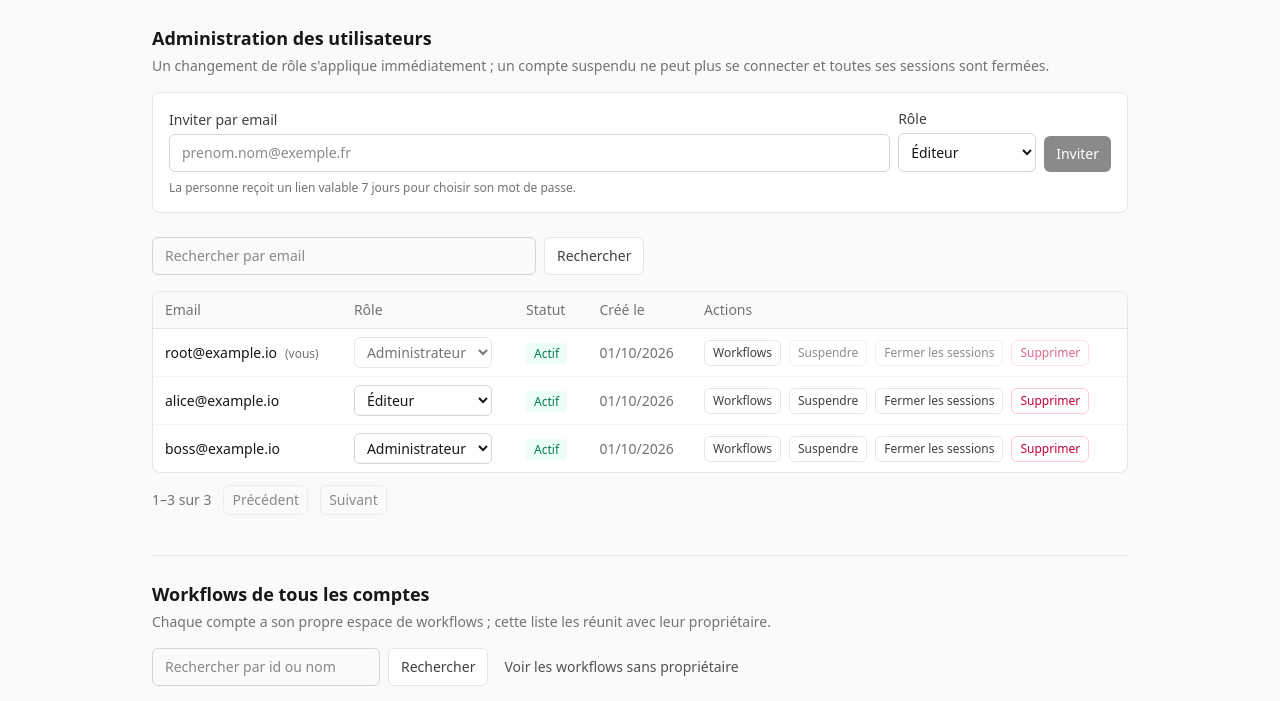
Test case: <AdminPanel /> › change un rôle et met la ligne à jour
Check: the row that starts with "alice@example.io" is shown, box [153,376,1127,424]
Select "Lecteur" in the dropdown next to "alice@example.io" at (423, 400), box [354,385,492,416]
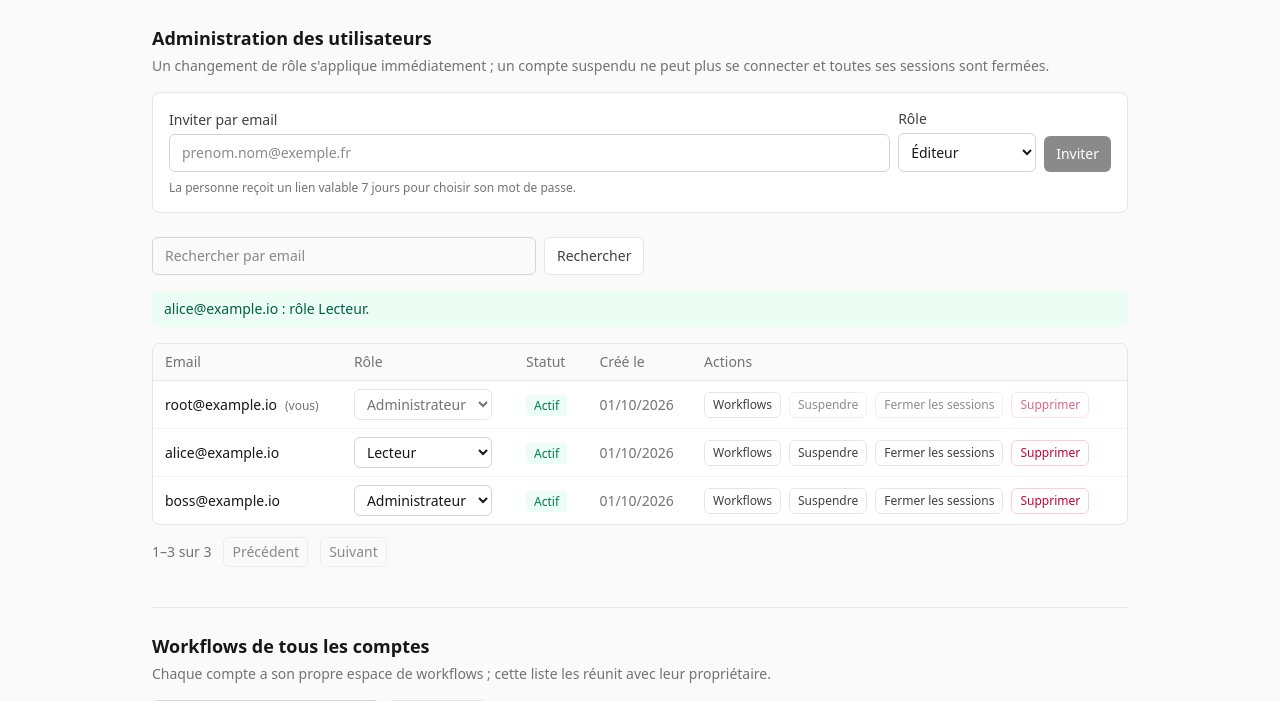
Check: the message shows "rôle Lecteur", box [164,299,369,318]
